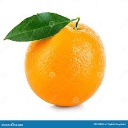orange: (22, 14, 109, 109)
